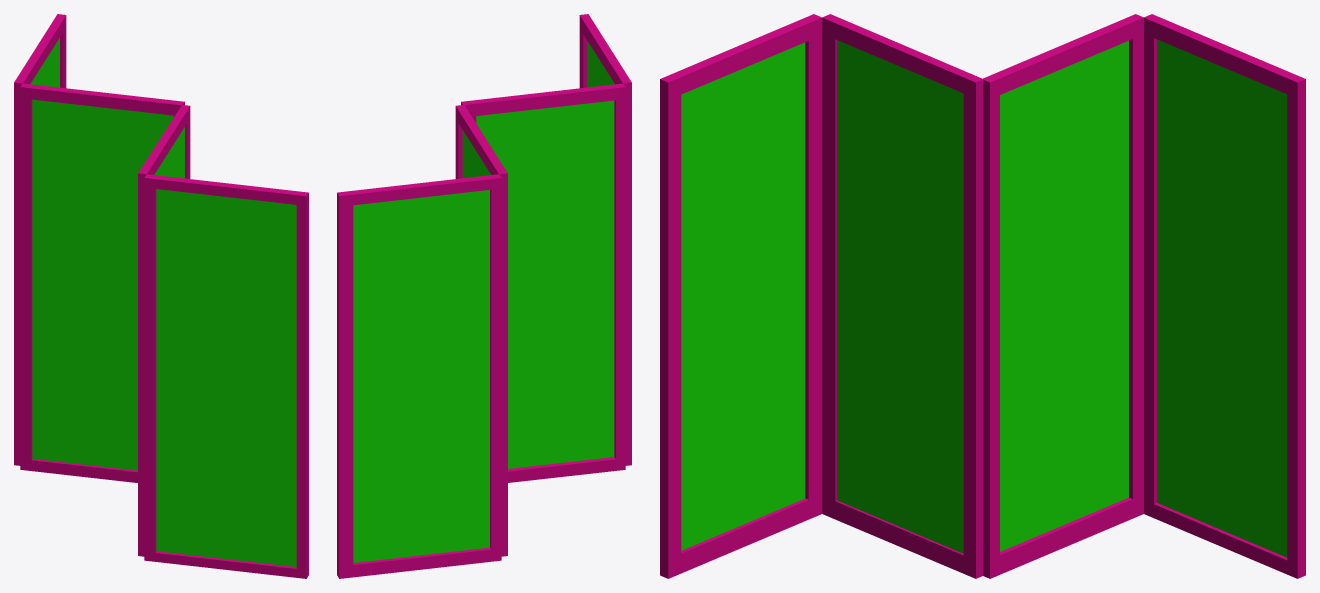
Rendered from Biombo.fbx.
3 renders of one model, left to right at view 1: azimuth 30°, elevation 25°; view 2: azimuth 150°, elevation 25°; view 3: azimuth 270°, elevation 25°, orthographic. The views are drawn at different scales.
Parts seen in each view (by area): view 1: Cube.003; view 2: Cube.003; view 3: Cube.003.
Boxes of the visible parts, x1,y1,x2,y2 form: Cube.003: (14, 14, 308, 578); Cube.003: (337, 14, 631, 578); Cube.003: (660, 14, 1305, 578).
Size of the model in its own units: 171 by 576 by 679.
